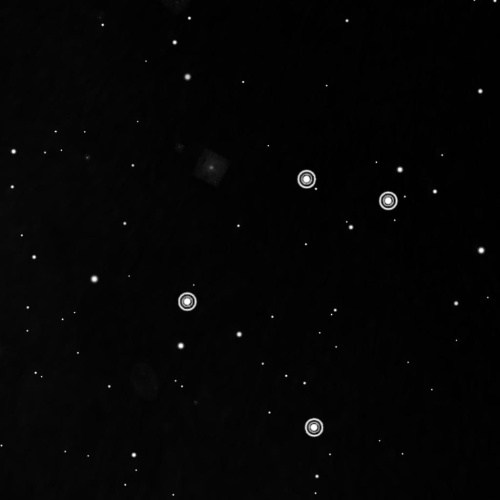coma_berenices: (167, 164, 405, 443)
